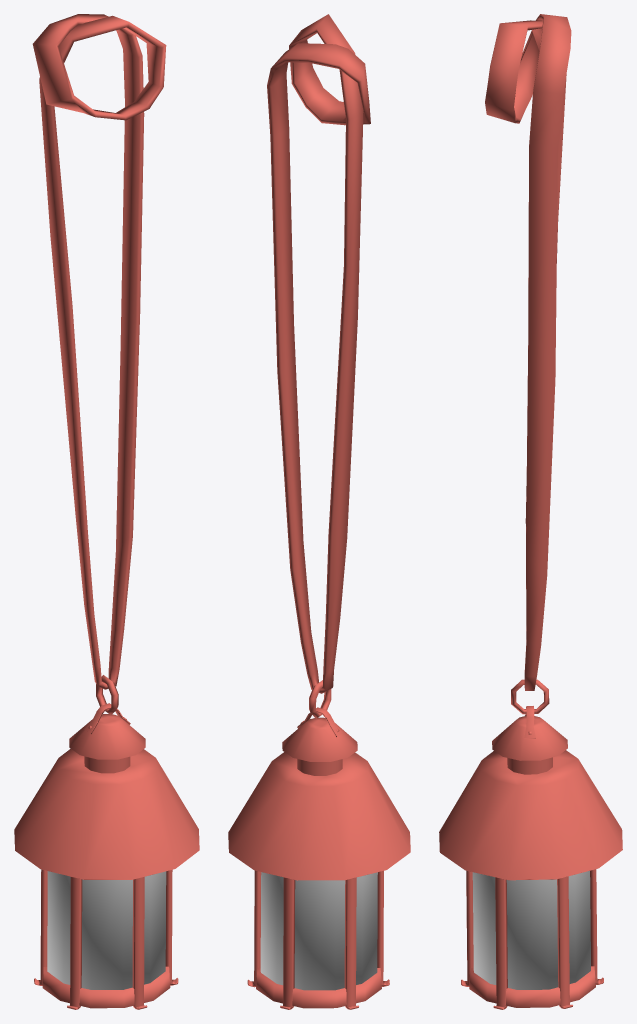
The model's file is Lantern_WithRope_M.fbx.
The picture shows the model from 3 angles, left to right: view 1: azimuth 30°, elevation 25°; view 2: azimuth 150°, elevation 25°; view 3: azimuth 270°, elevation 25°; orthographic projection.
Visible parts, largest first — view 1: Lantern_WithRope_LOD0; view 2: Lantern_WithRope_LOD0; view 3: Lantern_WithRope_LOD0.
Part boxes in pixels (x1,y1,x2,y2): Lantern_WithRope_LOD0: (14, 14, 199, 1009); Lantern_WithRope_LOD0: (228, 14, 410, 1009); Lantern_WithRope_LOD0: (439, 14, 622, 1009).
Size of what is drawn, in the model's own units: 24.01 by 139 by 24.01.
